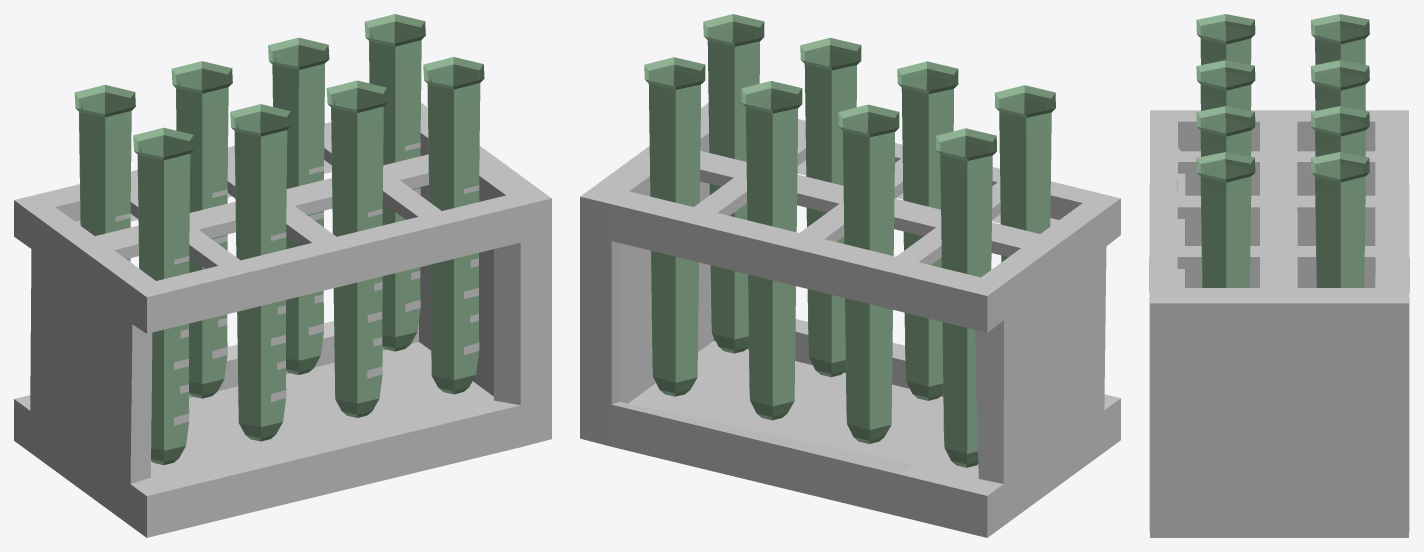
Rendered from test_tube_rack.fbx.
The picture shows the model from 3 angles, left to right: view 1: azimuth 30°, elevation 25°; view 2: azimuth 150°, elevation 25°; view 3: azimuth 270°, elevation 25°; orthographic projection. The views are drawn at different scales.
Parts seen in each view (by area): view 1: test_tube_rack; view 2: test_tube_rack; view 3: test_tube_rack.
Part boxes in pixels (x1=…): test_tube_rack: x1=14, y1=14, x2=551, y2=537; test_tube_rack: x1=580, y1=14, x2=1120, y2=537; test_tube_rack: x1=1149, y1=14, x2=1409, y2=537.
Bounding box in the file's own units: 352 × 294 × 201.
